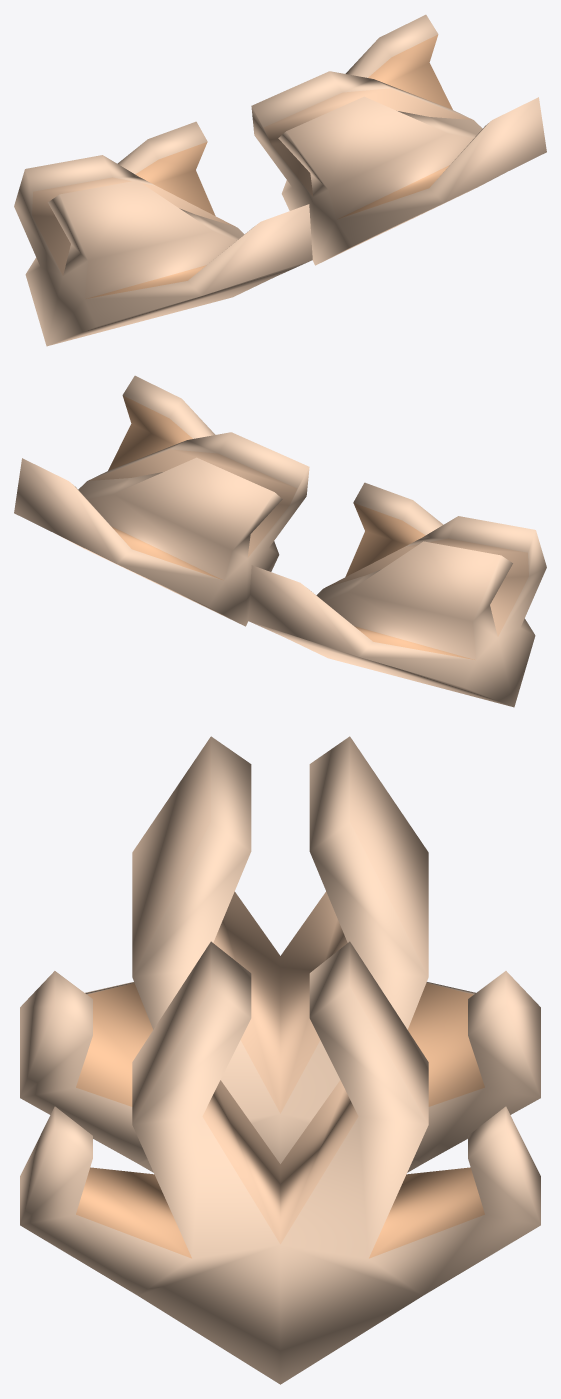
File: Bone_4_color_2.FBX
3 renders of one model, top to bottom at view 1: azimuth 30°, elevation 25°; view 2: azimuth 150°, elevation 25°; view 3: azimuth 270°, elevation 25°, orthographic. The views are drawn at different scales.
Visible parts, largest first — view 1: Bone; view 2: Bone; view 3: Bone.
Boxes of the visible parts, x1,y1,x2,y2 form: Bone: (14, 14, 546, 346); Bone: (14, 375, 546, 707); Bone: (20, 736, 540, 1384).
Bounding box in the file's own units: 0.3898 × 0.1585 × 0.1977.
